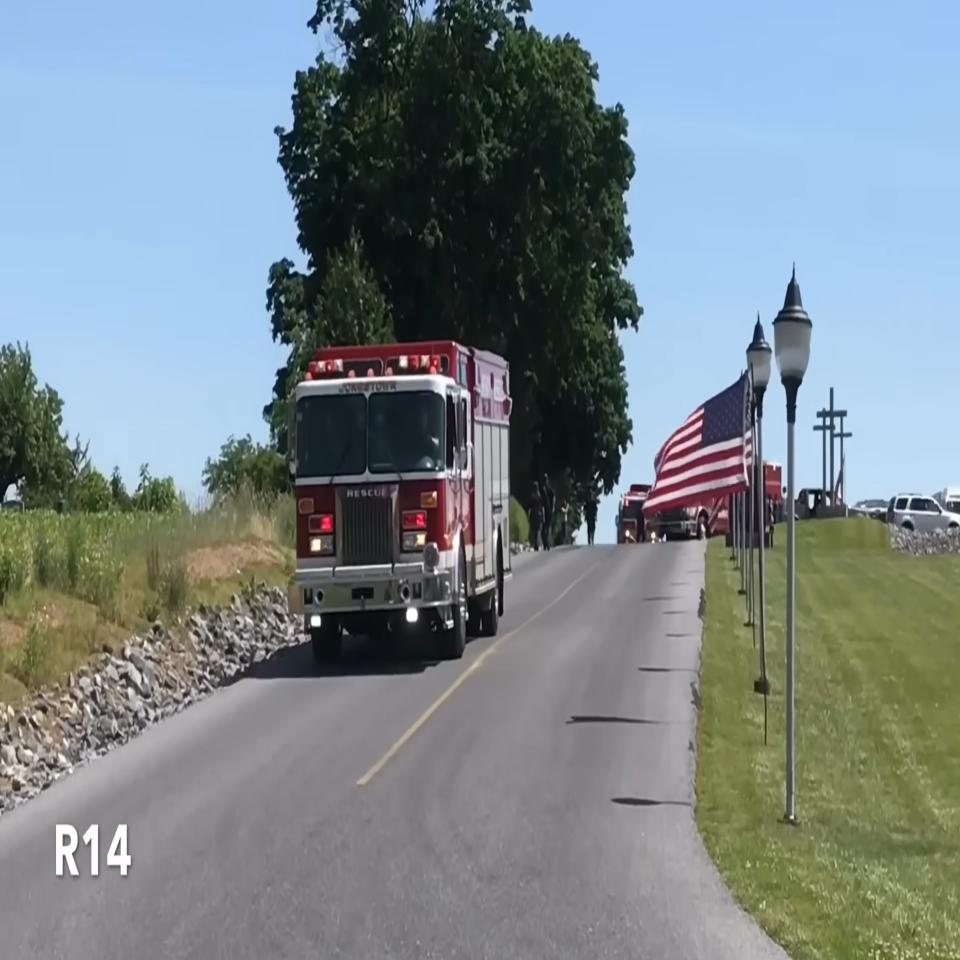viatura: (284, 340, 513, 655)
